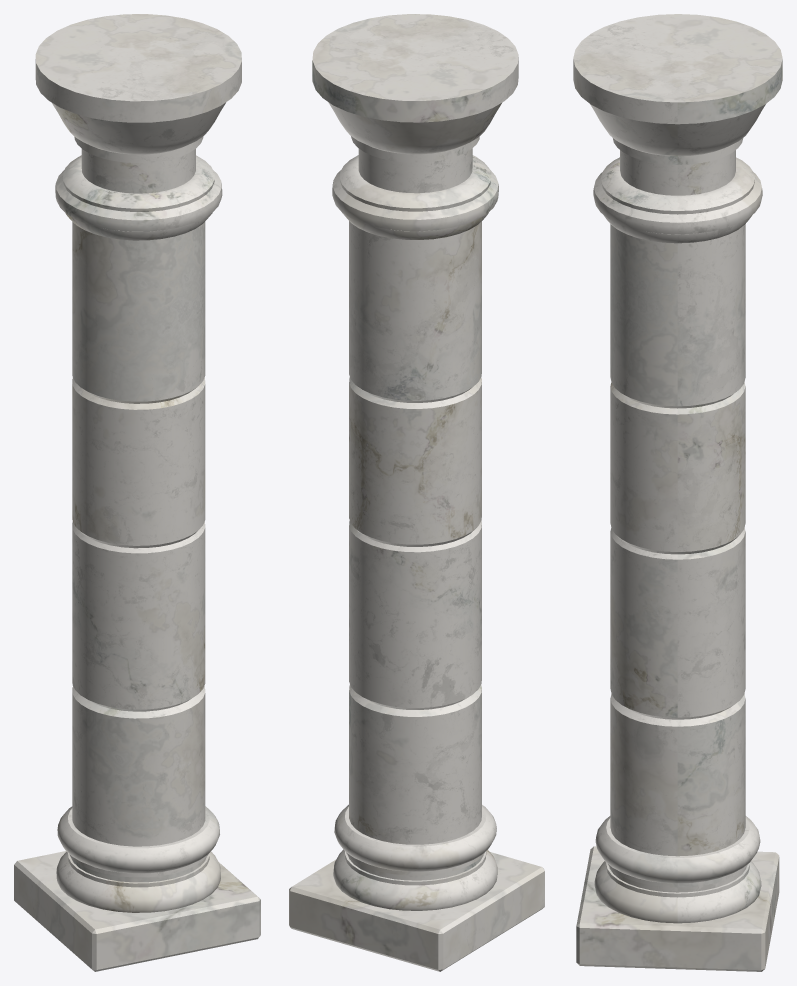
The model's file is GreekPillar.fbx.
3 views of the same model, side by side, from view 1: azimuth 30°, elevation 25°; view 2: azimuth 150°, elevation 25°; view 3: azimuth 270°, elevation 25° (orthographic).
Visible parts, largest first — view 1: Pillar; view 2: Pillar; view 3: Pillar.
Part boxes in pixels (x1=…): Pillar: x1=14, y1=14, x2=260, y2=971; Pillar: x1=289, y1=14, x2=544, y2=971; Pillar: x1=573, y1=14, x2=782, y2=971.
Size of the model in its own units: 0.7503 by 3.45 by 0.7503.
